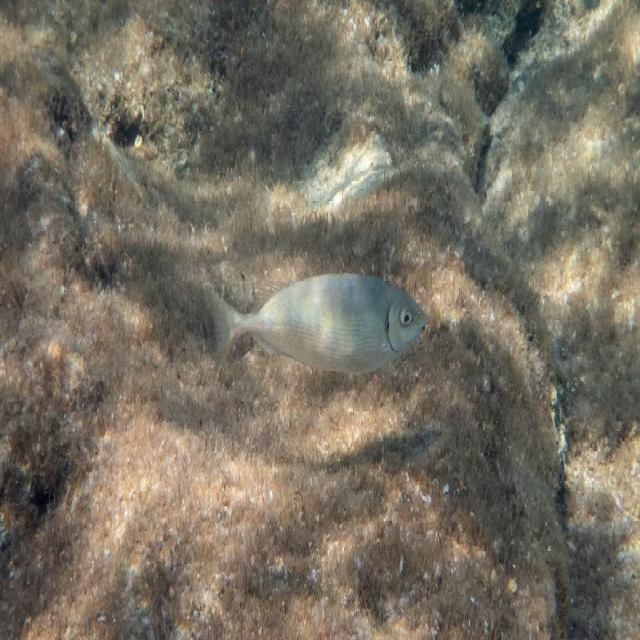Sokar Baligi: (195, 255, 439, 406)
